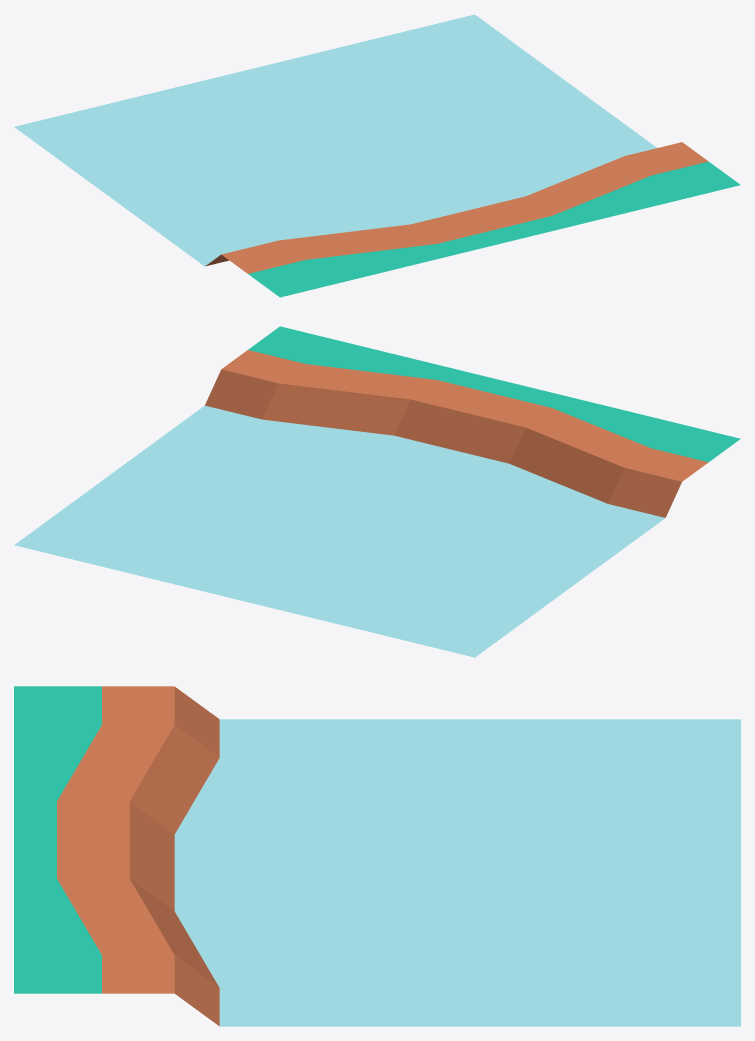
The model's file is ground_riverSide.dae.
3 views of the same model, one above another, from view 1: azimuth 30°, elevation 25°; view 2: azimuth 150°, elevation 25°; view 3: azimuth 270°, elevation 25° (orthographic). The views are drawn at different scales.
Visible parts, largest first — view 1: ground_riverSide; view 2: ground_riverSide; view 3: ground_riverSide.
Boxes of the visible parts, x1,y1,x2,y2 form: ground_riverSide: [14, 14, 740, 297]; ground_riverSide: [14, 326, 740, 657]; ground_riverSide: [14, 686, 740, 1026].
Bounding box in the file's own units: 1 × 0.05 × 1.
